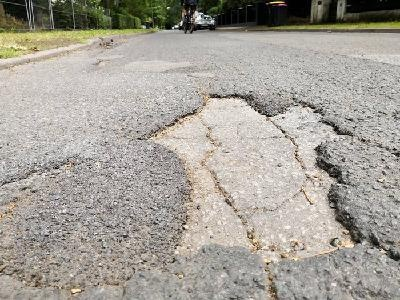pothole: (141, 88, 368, 261)
